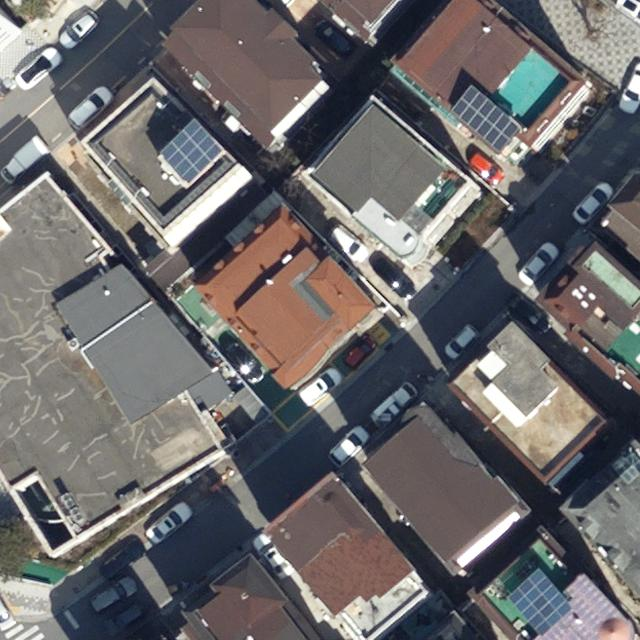panel: (448, 82, 523, 154), (507, 567, 577, 640), (156, 117, 227, 187)
